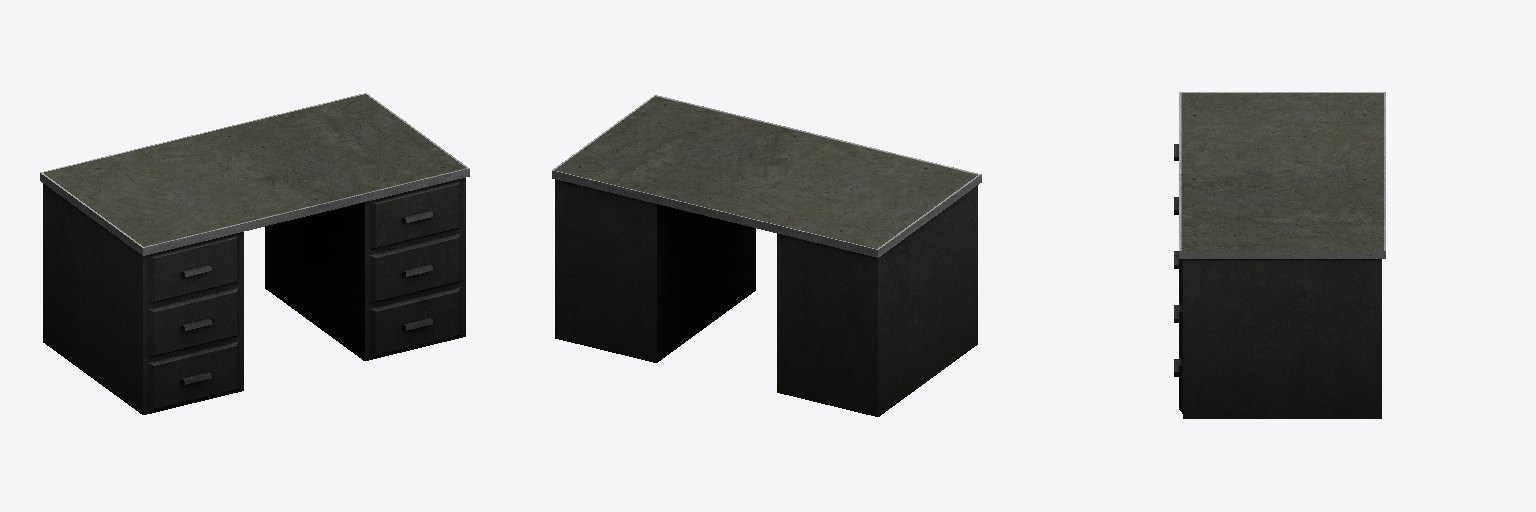
The picture shows the model from 3 angles: view 1: azimuth 30°, elevation 25°; view 2: azimuth 150°, elevation 25°; view 3: azimuth 270°, elevation 25°; orthographic projection.
Parts seen in each view (by area): view 1: Cube; view 2: Cube; view 3: Cube.
Boxes of the visible parts, box(x1,y1,x2,y2) form: Cube: box(40, 93, 469, 414); Cube: box(552, 95, 981, 416); Cube: box(1174, 92, 1385, 418).
Size of the model in its own units: 3.95 by 1.95 by 2.22.
Materials: 1 (1 with a texture image).